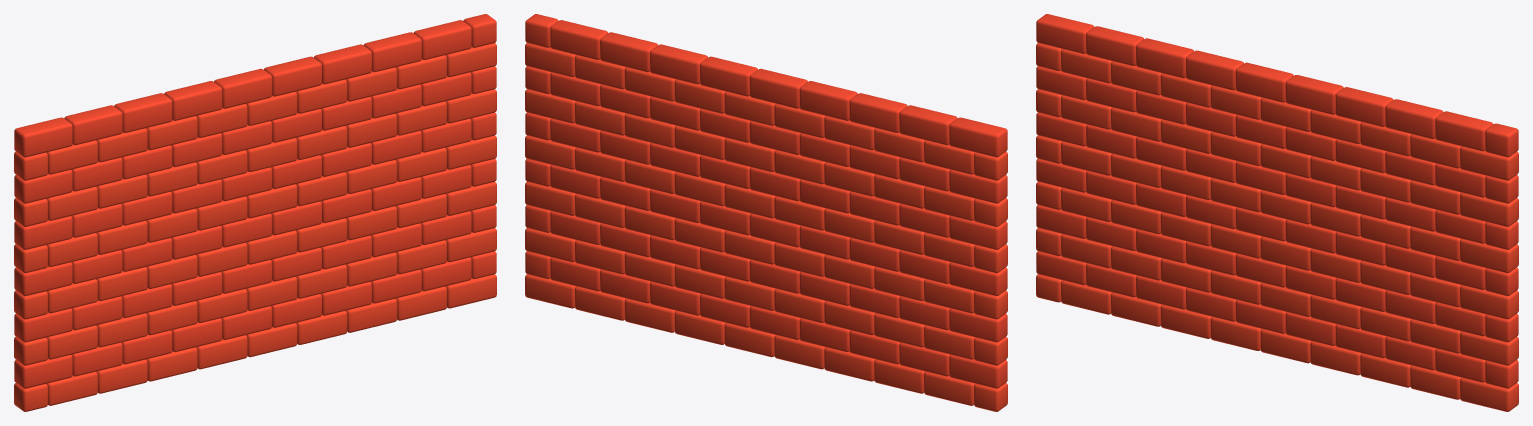
File: Wall.fbx
3 views of the same model, side by side, from view 1: azimuth 30°, elevation 25°; view 2: azimuth 150°, elevation 25°; view 3: azimuth 330°, elevation 25° (orthographic).
Visible parts, largest first — view 1: Wall; view 2: Wall; view 3: Wall.
Part boxes in pixels (bbox=[...]): Wall: bbox=[14, 14, 496, 411]; Wall: bbox=[525, 14, 1007, 411]; Wall: bbox=[1036, 14, 1518, 411].
Size of the model in its own units: 1716 by 960 by 70.88.
